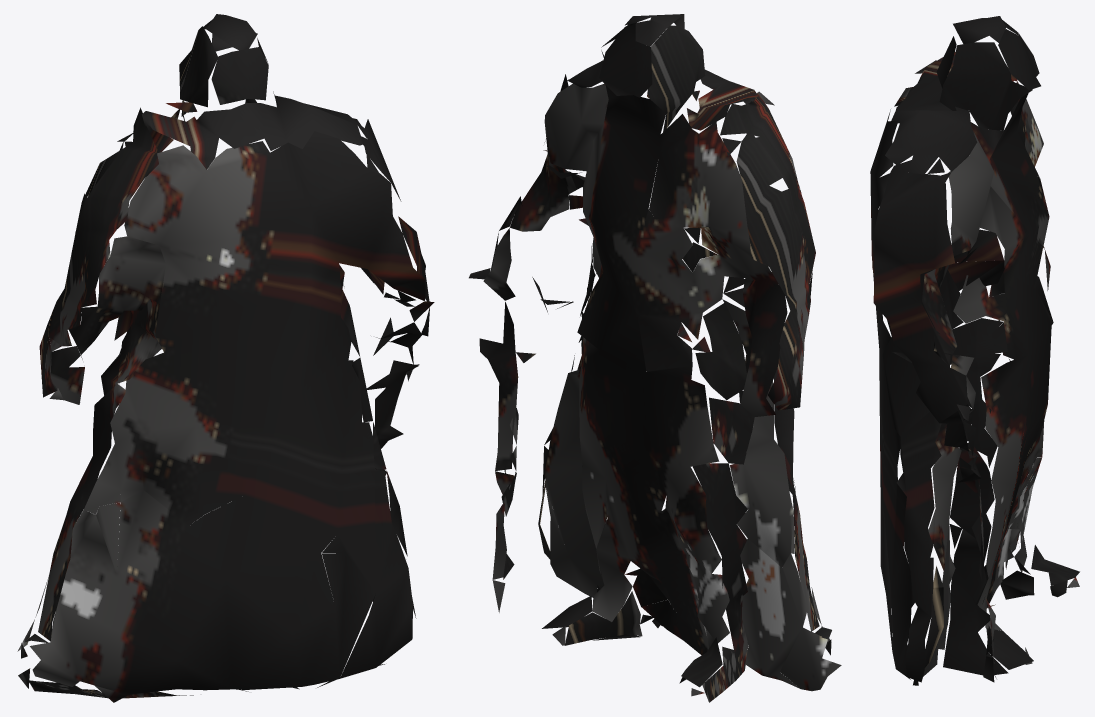
3 renders of one model, left to right at view 1: azimuth 30°, elevation 25°; view 2: azimuth 150°, elevation 25°; view 3: azimuth 270°, elevation 25°, orthographic. The views are drawn at different scales.
Parts seen in each view (by area): view 1: body.002; view 2: body.002; view 3: body.002.
Part boxes in pixels (x1,y1,x2,y2): body.002: [17, 14, 434, 702]; body.002: [469, 14, 841, 702]; body.002: [870, 16, 1079, 685].
Bounding box in the file's own units: 1.29 × 2 × 0.6142.
Materials: 1 (1 with a texture image).
